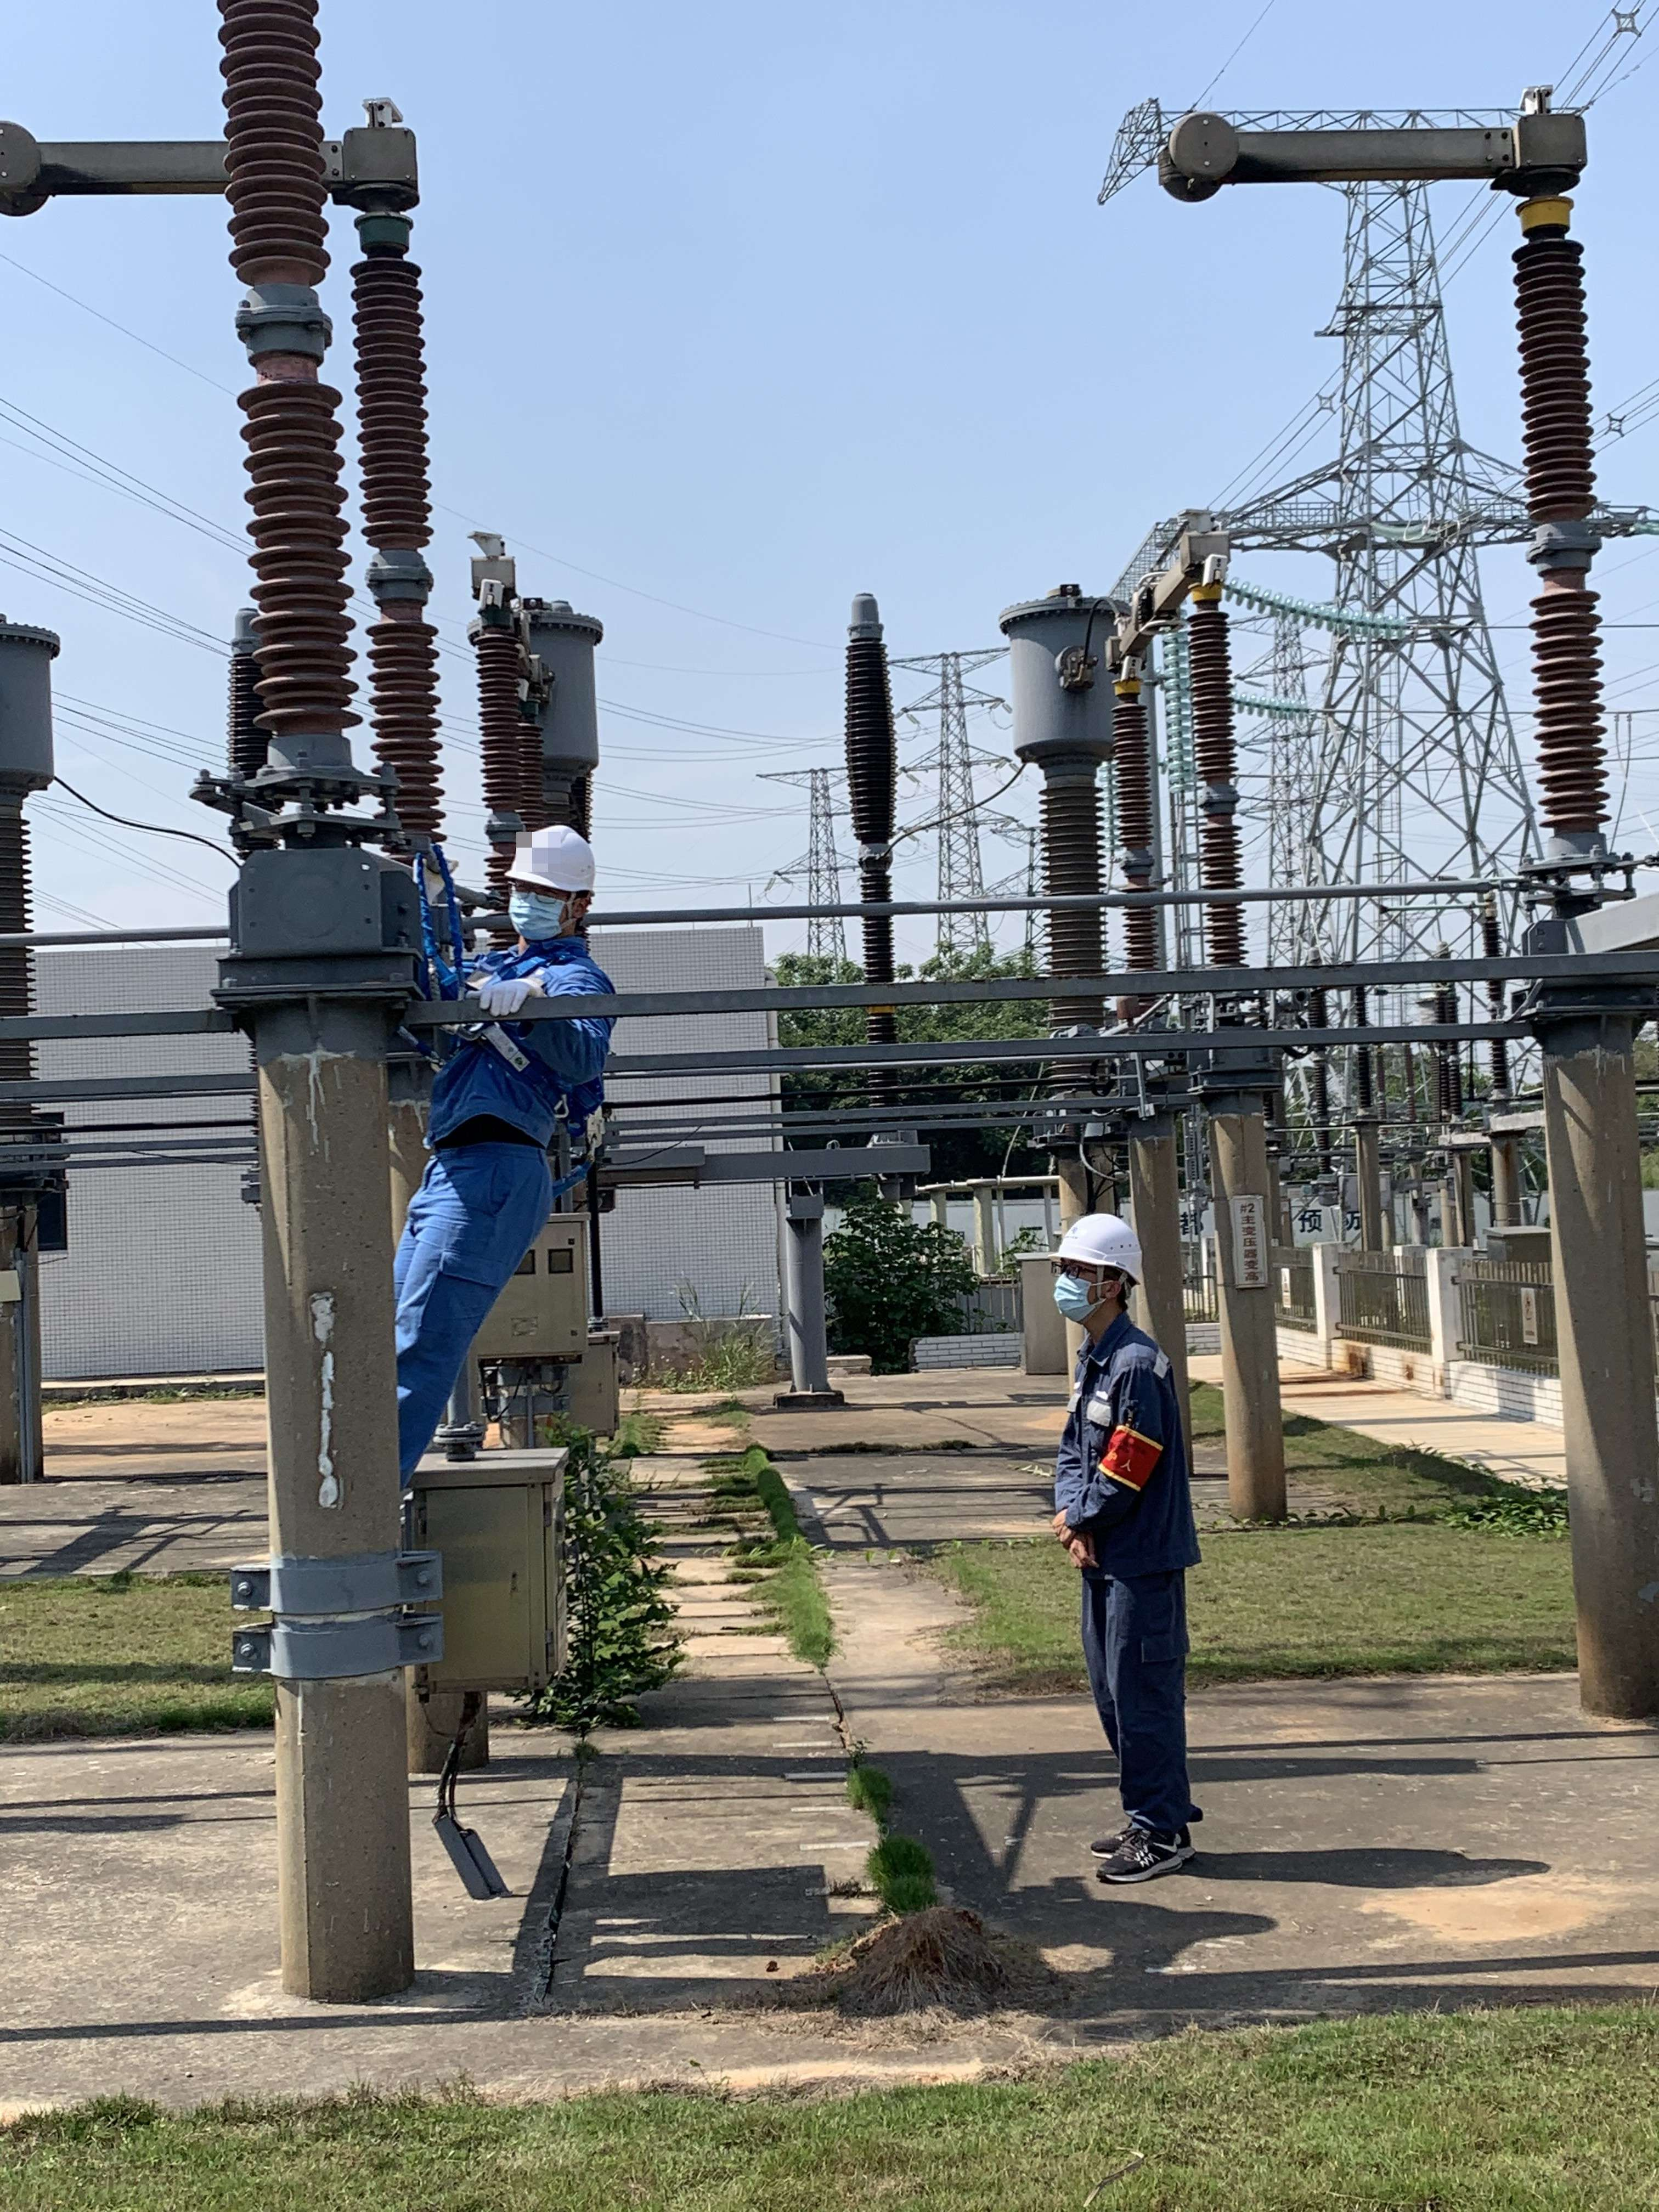downsuit: (396, 1177, 566, 1460), (1086, 1595, 1211, 1829)
upsuit: (427, 941, 624, 1155), (1049, 1336, 1195, 1568)
